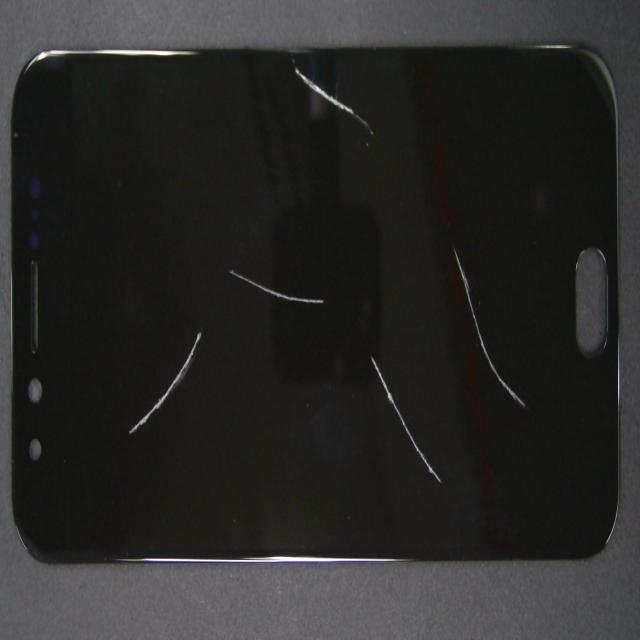scratch: (215, 259, 640, 640), (309, 292, 640, 521), (231, 166, 460, 415), (134, 106, 253, 534), (238, 84, 531, 149)
